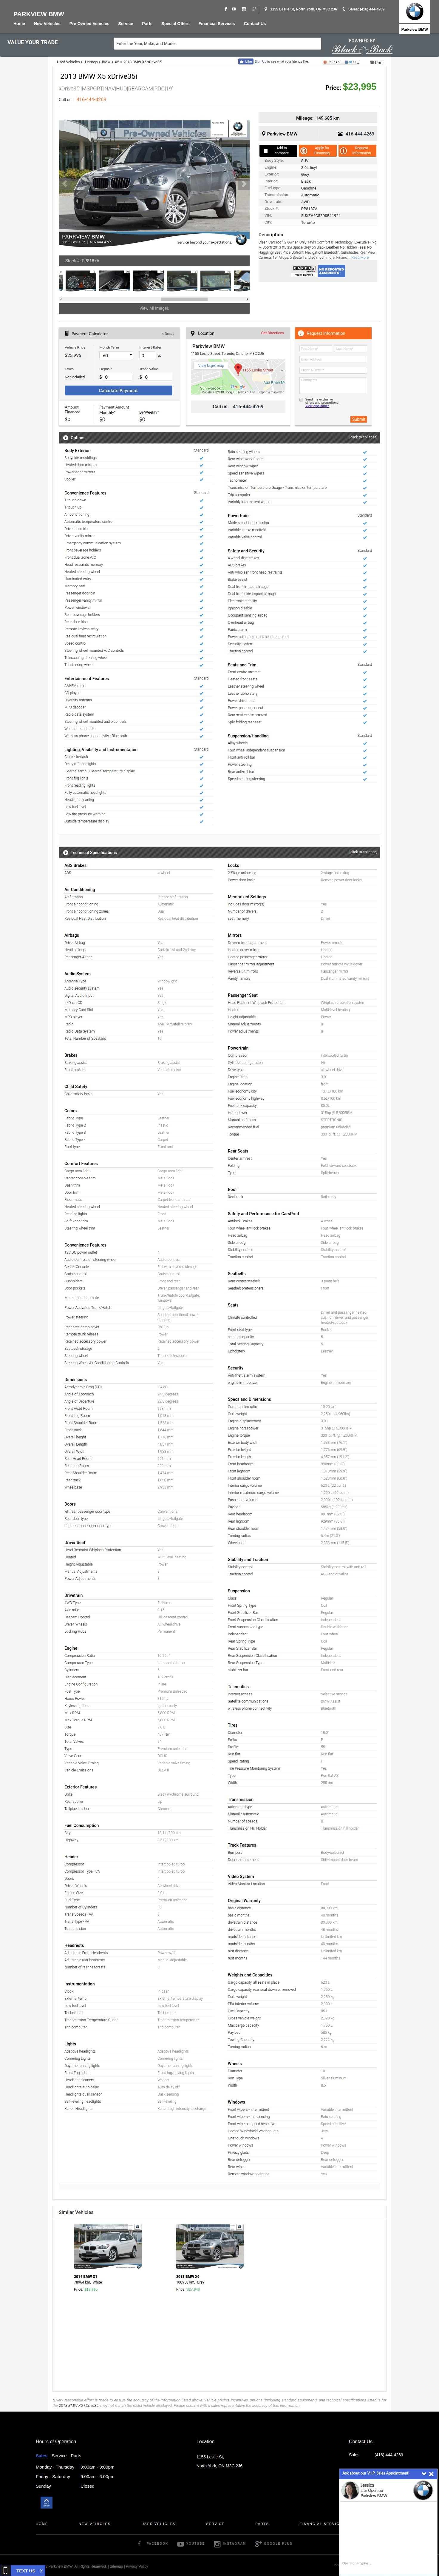car: (242, 181, 247, 187)
